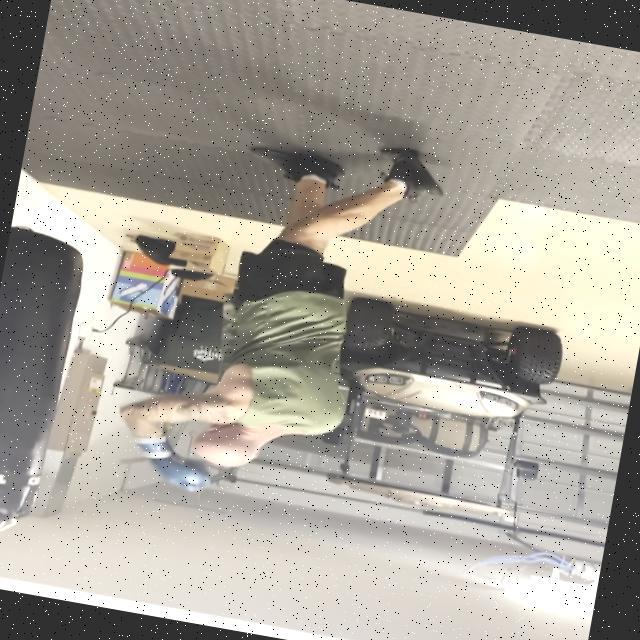bag: (0, 217, 91, 541)
uppercut: (104, 320, 369, 527)
